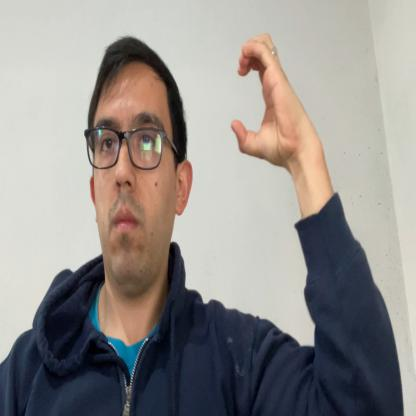C: (231, 33, 294, 162)
